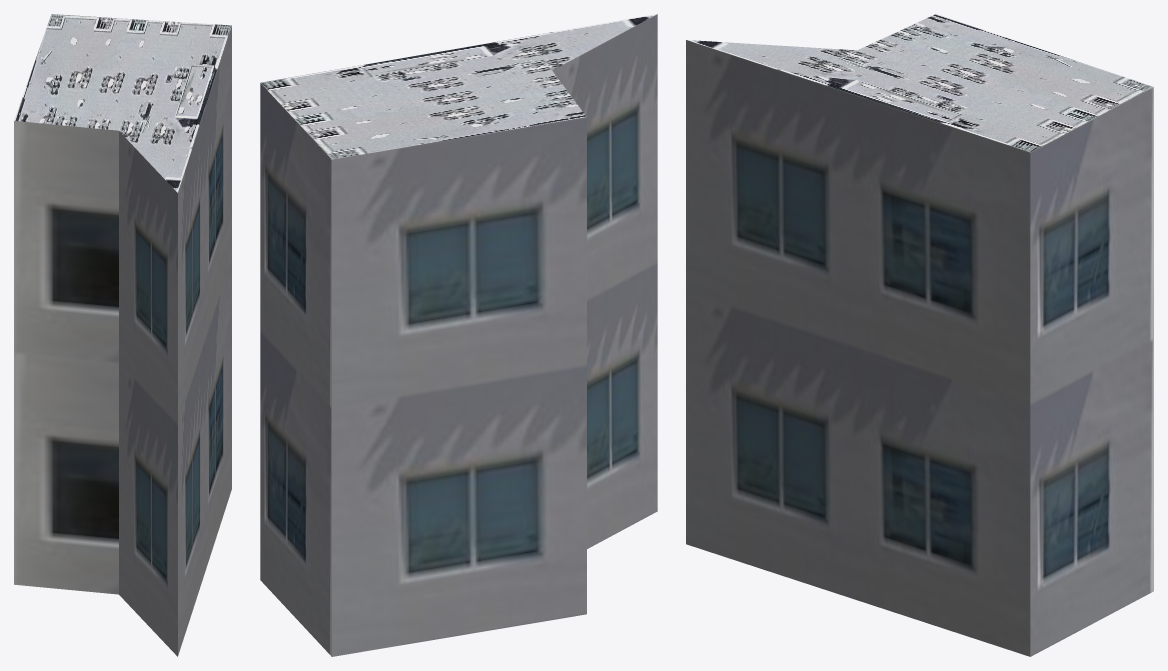
The model's file is ResTex__1965.fbx.
3 renders of one model, left to right at view 1: azimuth 30°, elevation 25°; view 2: azimuth 150°, elevation 25°; view 3: azimuth 270°, elevation 25°, orthographic. The views are drawn at different scales.
Parts seen in each view (by area): view 1: CityEngineMaterial_10_m, CityEngineMaterial_8_m; view 2: CityEngineMaterial_10_m, CityEngineMaterial_8_m; view 3: CityEngineMaterial_10_m, CityEngineMaterial_8_m.
Part boxes in pixels (bbox=[...]): CityEngineMaterial_10_m: bbox=[14, 26, 231, 656]; CityEngineMaterial_8_m: bbox=[14, 14, 231, 192]; CityEngineMaterial_10_m: bbox=[260, 14, 657, 656]; CityEngineMaterial_8_m: bbox=[260, 14, 656, 159]; CityEngineMaterial_10_m: bbox=[686, 40, 1153, 656]; CityEngineMaterial_8_m: bbox=[687, 14, 1153, 152].
Size of the model in its own units: 3.54 by 6 by 5.04.
Materials: 2 (2 with a texture image).
